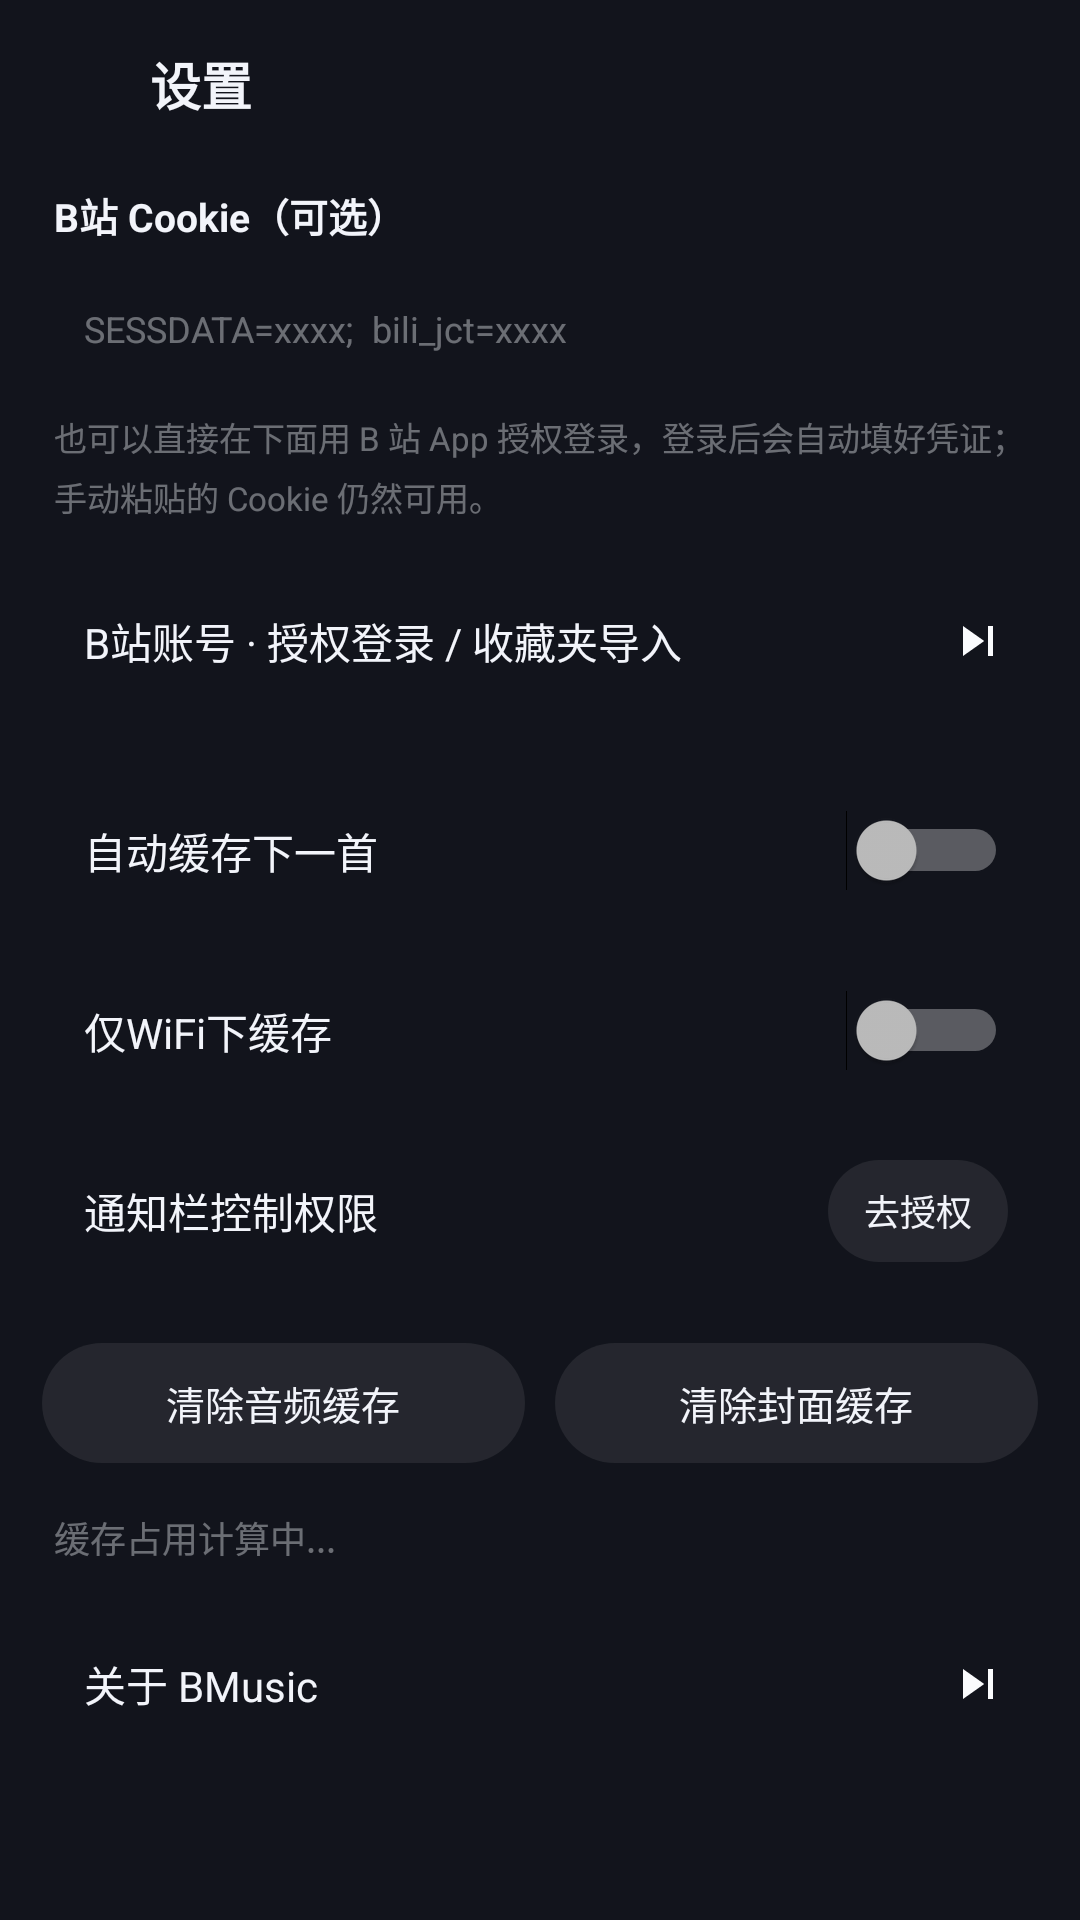

Where icons sit on this 1080px x 1920px app screen, as (x1, y1, x2, y2):
next: (963, 626, 993, 656), (963, 1669, 993, 1699)
